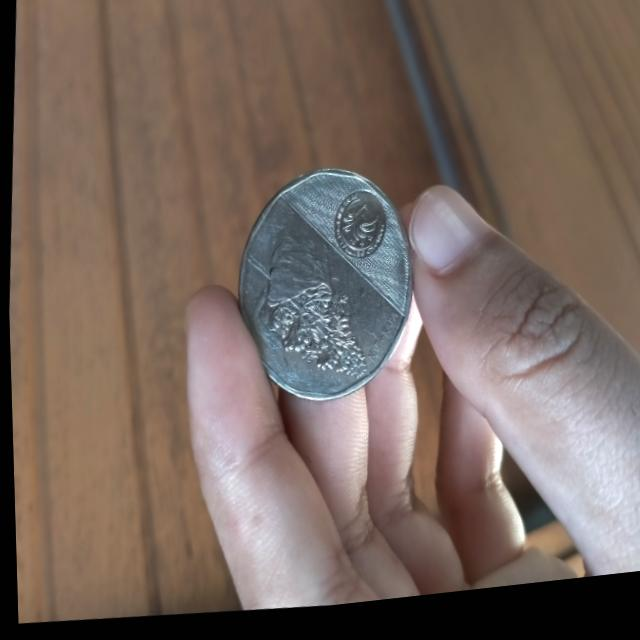10_New_Back: (226, 223, 386, 396)
